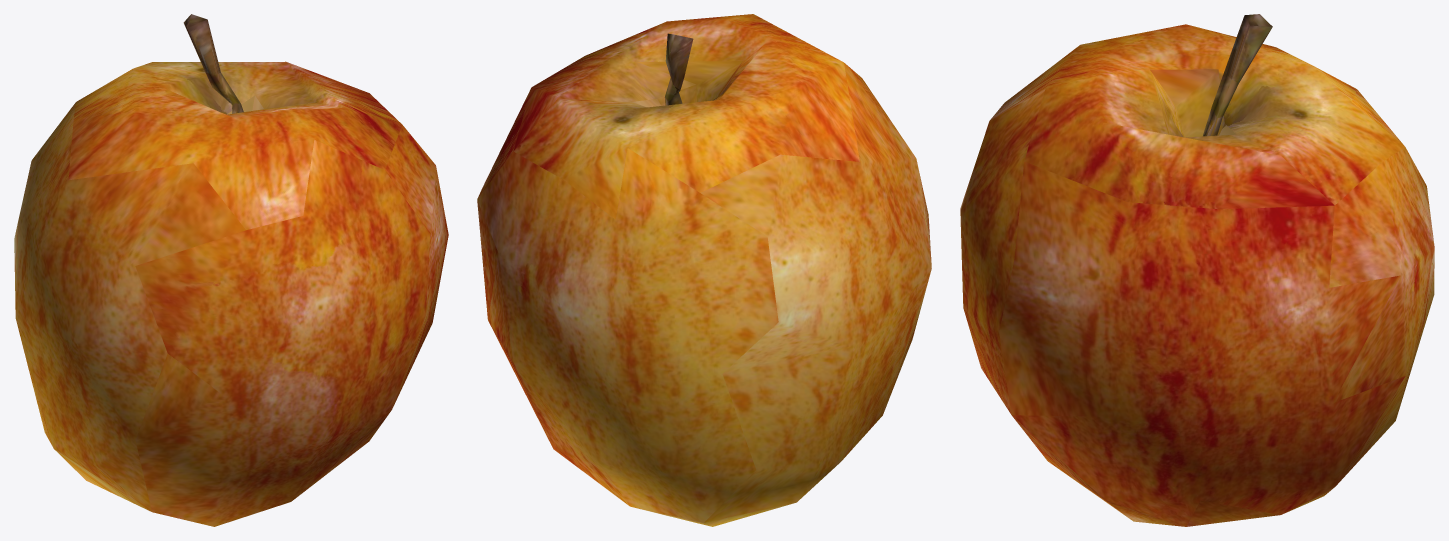
The model's file is Mela.fbx.
The picture shows the model from 3 angles, left to right: view 1: azimuth 30°, elevation 25°; view 2: azimuth 150°, elevation 25°; view 3: azimuth 270°, elevation 25°; orthographic projection. The views are drawn at different scales.
Parts seen in each view (by area): view 1: apple textured obj; view 2: apple textured obj; view 3: apple textured obj.
Part boxes in pixels (box(x1,y1,x2,y2)): apple textured obj: box(14, 14, 448, 526); apple textured obj: box(477, 14, 931, 526); apple textured obj: box(960, 14, 1434, 526).
Size of the model in its own units: 73.55 by 84.66 by 74.57.
